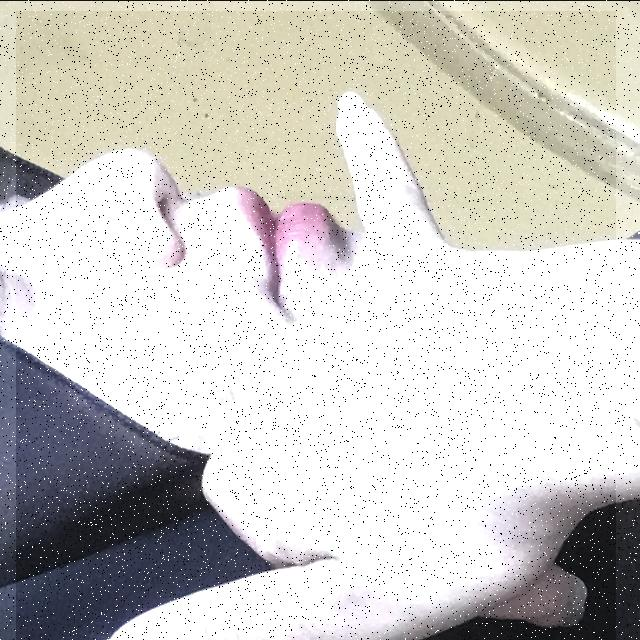telpon: (16, 10, 616, 640)
